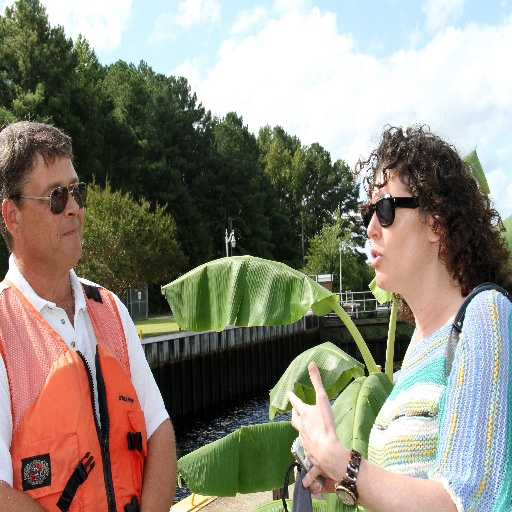hand: (285, 360, 338, 479), (292, 459, 333, 496)
